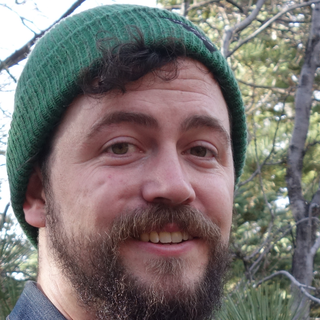eye: (88, 135, 152, 162), (177, 134, 223, 167)
